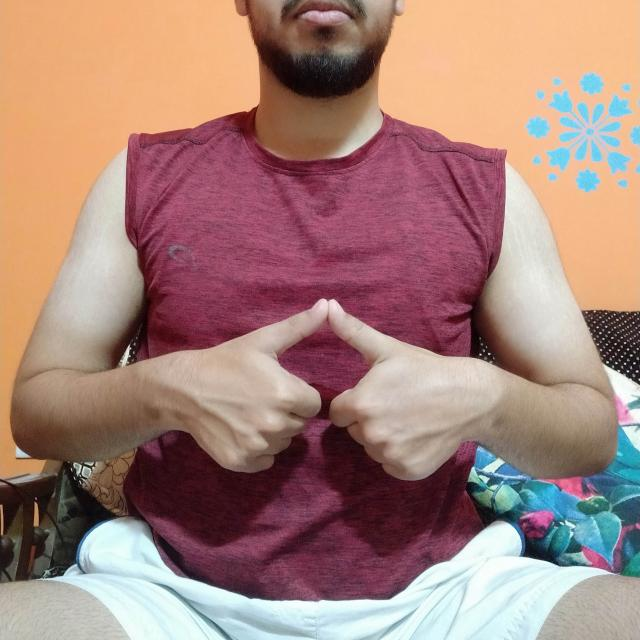A: (172, 295, 489, 484)
